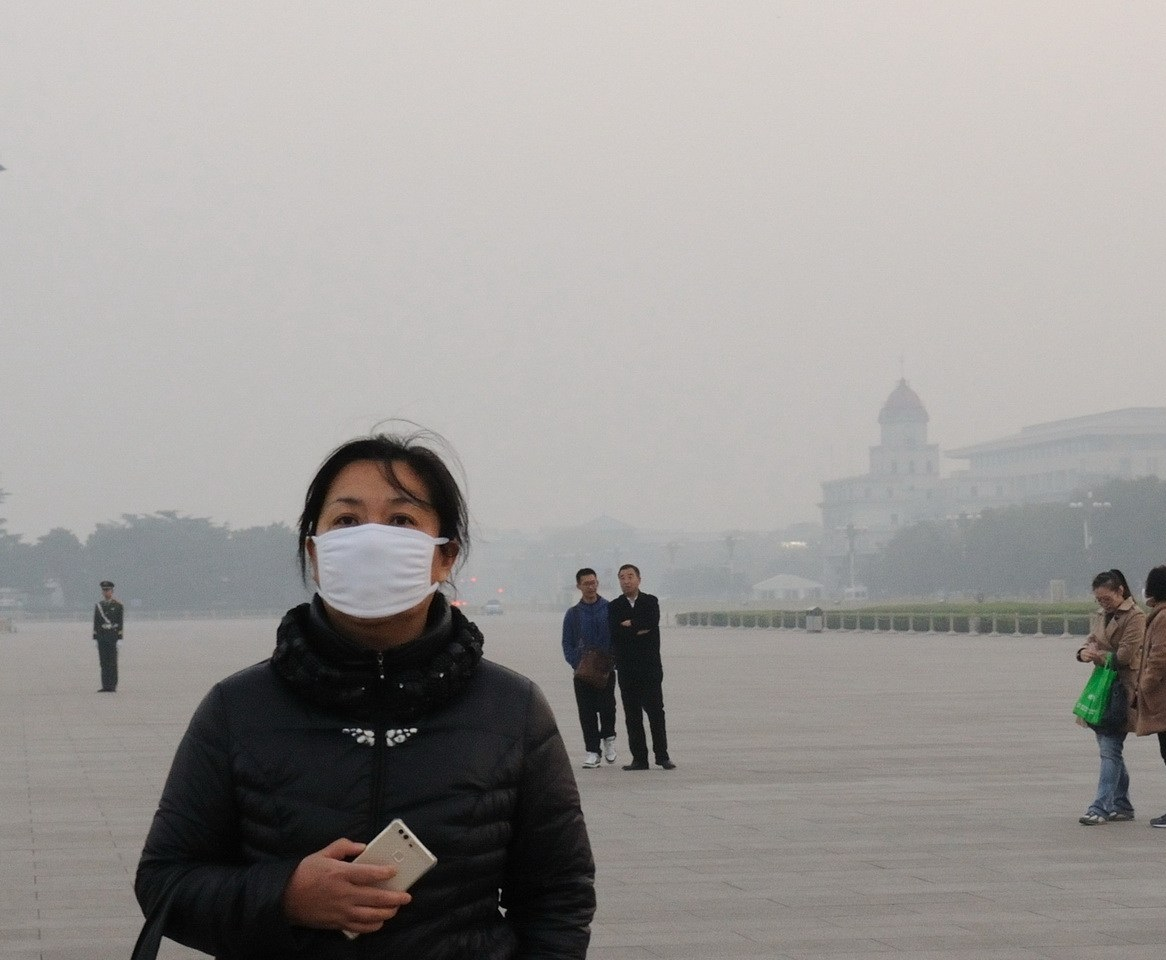face: (1093, 582, 1118, 608), (617, 567, 639, 592), (581, 574, 599, 597)
face_mask: (312, 458, 437, 619)
